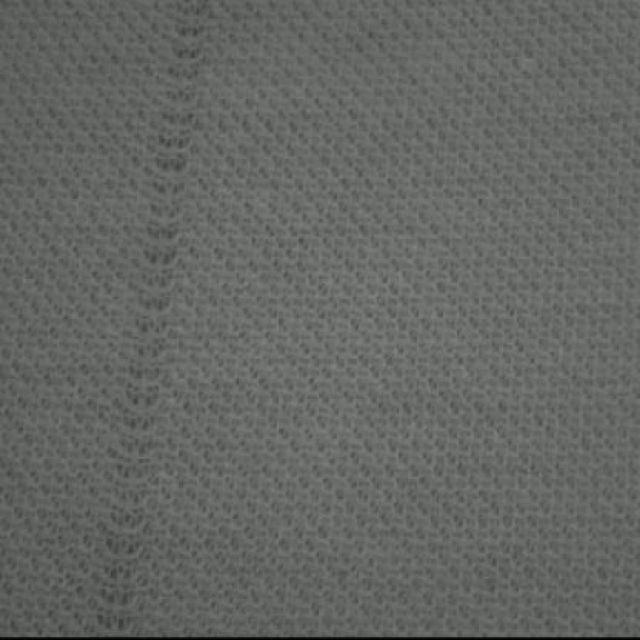Line: (92, 0, 217, 635)
